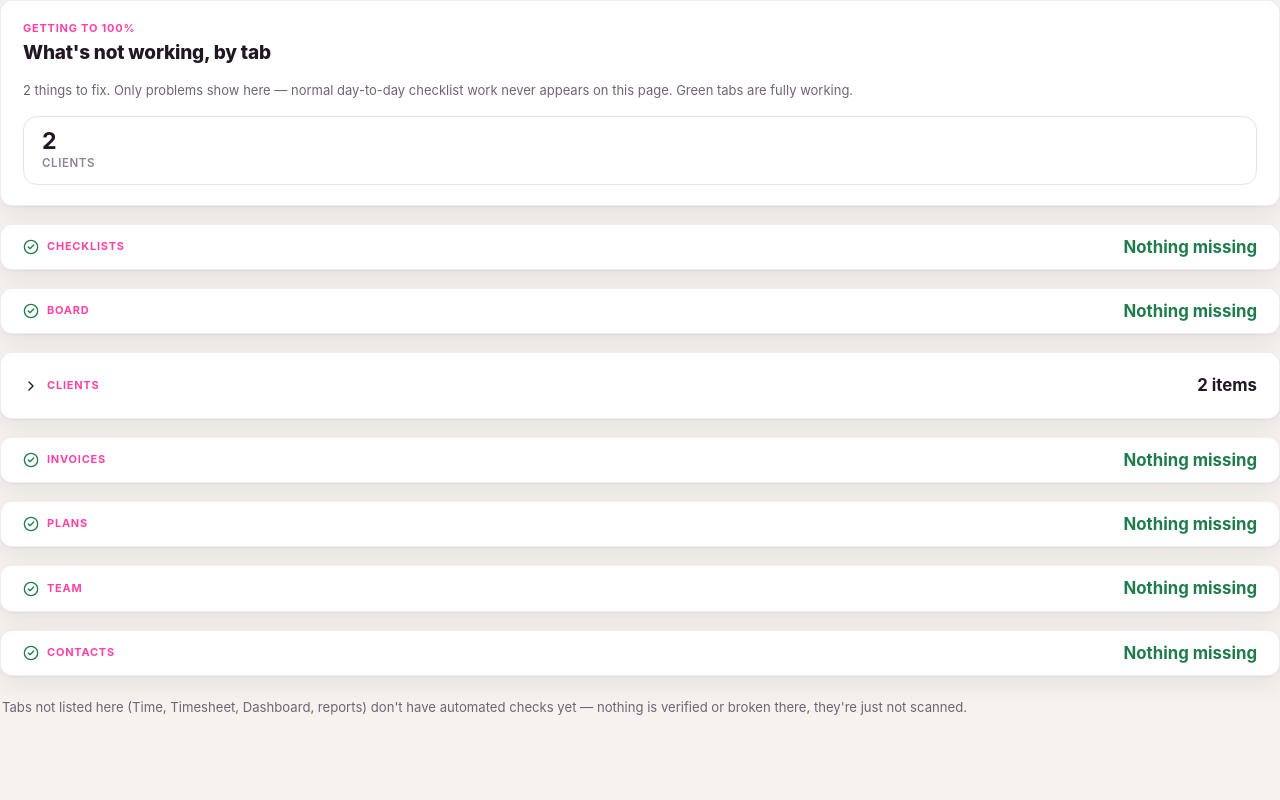
Test: SetupChecklistPage plan checklist nudges › still nudges for an additional plan outside the package, with its own checklist
Click the button with class "setup-cat-header" showing "Clients 2 items" at (73, 385), box x1=23 y1=373 x2=1257 y2=398
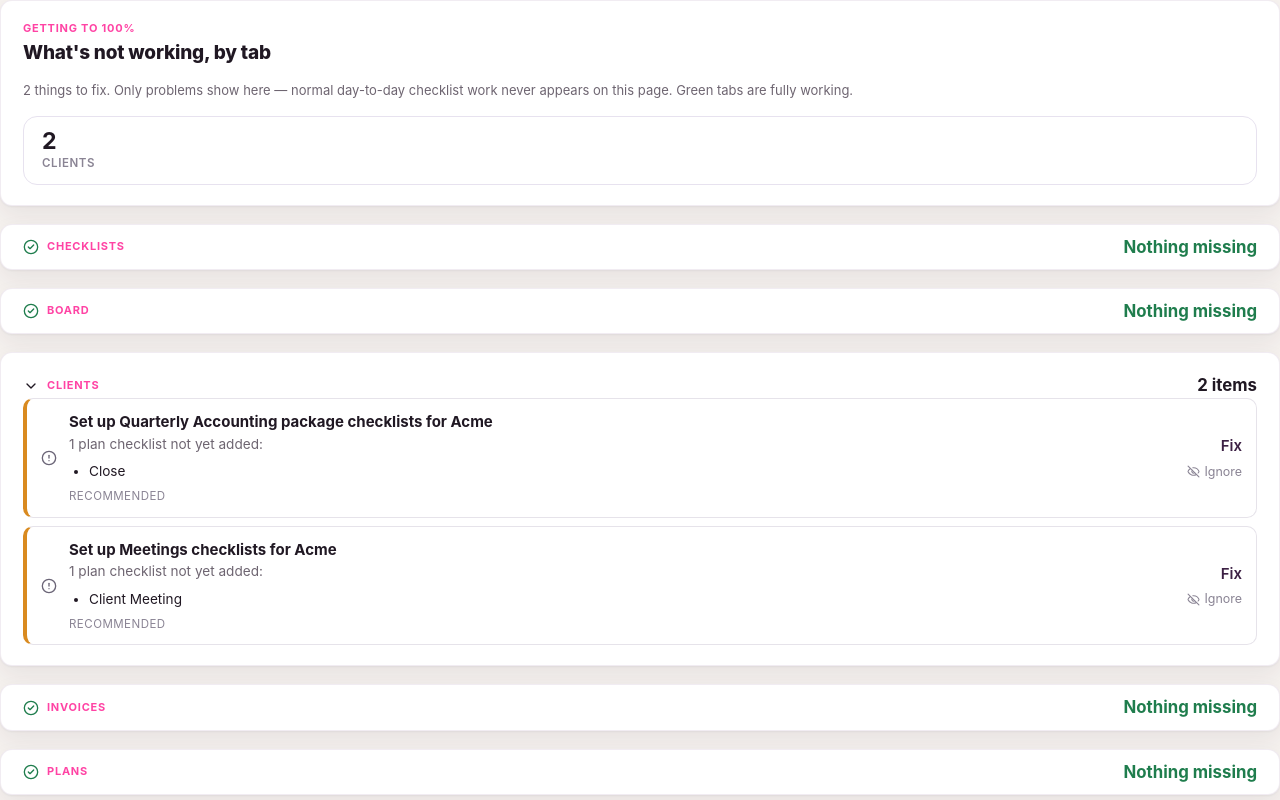
Expected: the text "Set up Quarterly Accounting package checklists for Acme" is shown, x1=69 y1=412 x2=493 y2=431
Expected: the text "Set up Meetings checklists for Acme" is shown, x1=69 y1=540 x2=337 y2=559
Expected: the number of list items "Client Meeting" is 1, x1=89 y1=591 x2=182 y2=607
